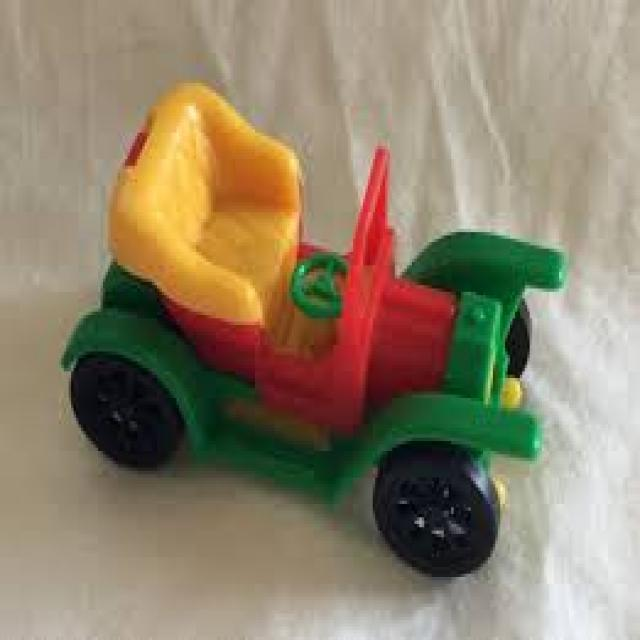hard-toy: (62, 83, 565, 575)
